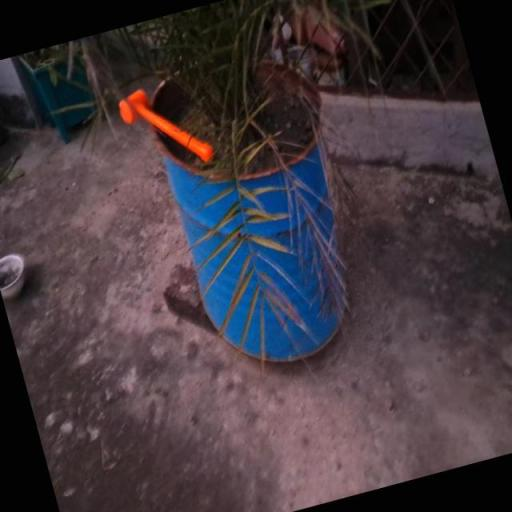mallet: (115, 74, 216, 181)
